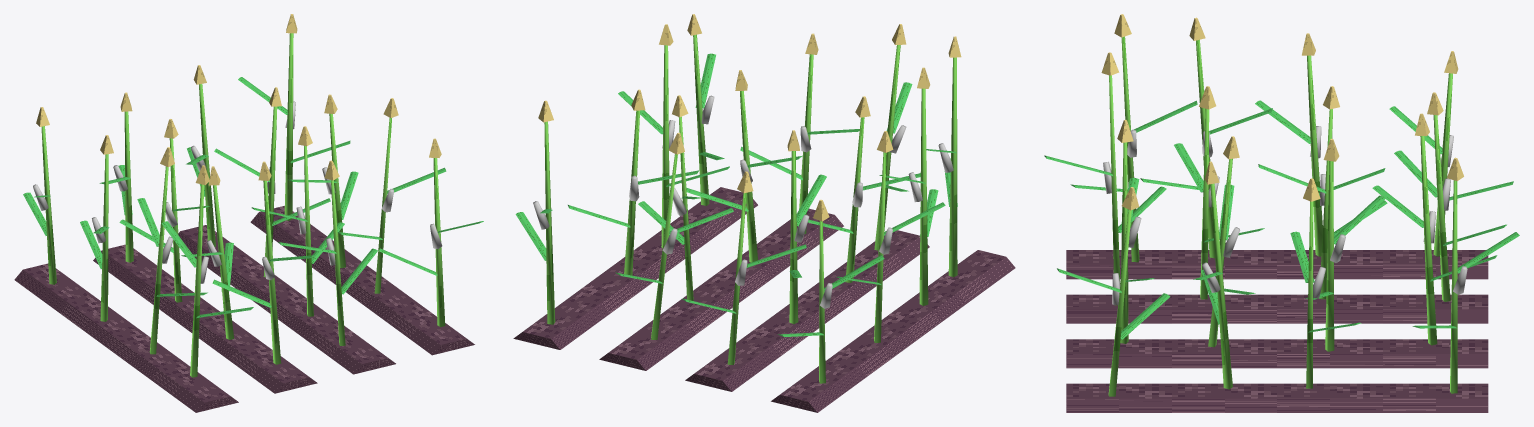
The model's file is Corn Patch.fbx.
3 views of the same model, side by side, from view 1: azimuth 30°, elevation 25°; view 2: azimuth 150°, elevation 25°; view 3: azimuth 270°, elevation 25° (orthographic). The views are drawn at different scales.
Visible parts, largest first — view 1: Corn Patch mound 0, Corn Patch mound 1, Corn Patch mound 3, Corn Patch mound 2, Corn Patch stalk 3 3.001, Corn Patch stalk 0 0.001, Corn Patch stalk 1 0.001, Corn Patch stalk 0 2.001, Corn Patch stalk 0 1.001, Corn Patch stalk 3 0.001, Corn Patch stalk 0 3.001, Corn Patch stalk 1 1.001 (+8 smaller); view 2: Corn Patch mound 0, Corn Patch mound 3, Corn Patch mound 1, Corn Patch mound 2, Corn Patch stalk 0 0.001, Corn Patch stalk 0 1.001, Corn Patch stalk 3 3.001, Corn Patch stalk 1 2.001, Corn Patch stalk 3 1.001, Corn Patch stalk 3 0.001, Corn Patch stalk 0 2.001, Corn Patch stalk 2 1.001 (+8 smaller); view 3: Corn Patch mound 3, Corn Patch mound 2, Corn Patch mound 1, Corn Patch mound 0, Corn Patch stalk 2 3.001, Corn Patch stalk 3 1.001, Corn Patch stalk 3 3.001, Corn Patch stalk 0 2.001, Corn Patch stalk 2 2.001, Corn Patch stalk 1 3.001, Corn Patch stalk 3 0.001, Corn Patch stalk 1 0.001 (+13 smaller).
Boxes of the visible parts, x1,y1,x2,y2 form: Corn Patch mound 0: [14, 263, 238, 412]; Corn Patch mound 1: [93, 244, 317, 393]; Corn Patch mound 3: [250, 206, 474, 355]; Corn Patch mound 2: [178, 225, 395, 374]; Corn Patch stalk 3 3.001: [284, 33, 293, 220]; Corn Patch stalk 0 0.001: [190, 184, 204, 377]; Corn Patch stalk 1 0.001: [263, 180, 281, 364]; Corn Patch stalk 0 2.001: [100, 154, 108, 321]; Corn Patch stalk 0 1.001: [149, 166, 168, 354]; Corn Patch stalk 3 0.001: [433, 158, 445, 327]; Corn Patch stalk 0 3.001: [41, 126, 56, 284]; Corn Patch stalk 1 1.001: [213, 185, 234, 339]; Corn Patch mound 0: [771, 250, 1015, 412]; Corn Patch mound 3: [513, 187, 757, 349]; Corn Patch mound 1: [685, 230, 929, 391]; Corn Patch mound 2: [599, 208, 843, 370]; Corn Patch stalk 0 0.001: [948, 57, 957, 277]; Corn Patch stalk 0 1.001: [919, 88, 928, 305]; Corn Patch stalk 3 3.001: [544, 121, 555, 324]; Corn Patch stalk 1 2.001: [789, 151, 798, 323]; Corn Patch stalk 3 1.001: [661, 45, 669, 247]; Corn Patch stalk 3 0.001: [693, 34, 709, 205]; Corn Patch stalk 0 2.001: [874, 152, 886, 342]; Corn Patch stalk 2 1.001: [740, 91, 757, 262]; Corn Patch mound 3: [1066, 383, 1488, 412]; Corn Patch mound 2: [1066, 339, 1488, 368]; Corn Patch mound 1: [1066, 294, 1488, 323]; Corn Patch mound 0: [1066, 250, 1488, 279]; Corn Patch stalk 2 3.001: [1420, 136, 1437, 345]; Corn Patch stalk 3 1.001: [1210, 183, 1232, 389]; Corn Patch stalk 3 3.001: [1450, 180, 1457, 393]; Corn Patch stalk 0 2.001: [1307, 55, 1322, 256]; Corn Patch stalk 2 2.001: [1325, 161, 1334, 351]; Corn Patch stalk 1 3.001: [1433, 115, 1450, 301]; Corn Patch stalk 3 0.001: [1108, 209, 1131, 396]; Corn Patch stalk 1 0.001: [1109, 75, 1120, 305].
Size of the model in its own units: 4.17 by 2.69 by 4.51.
